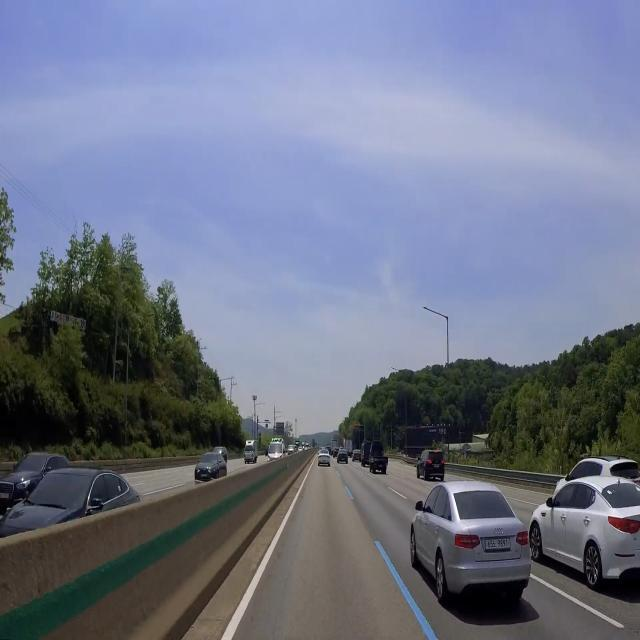car: (481, 533, 511, 554), (0, 487, 11, 505), (200, 469, 210, 483), (432, 463, 441, 471), (378, 463, 384, 467), (322, 459, 327, 463), (341, 458, 345, 461), (356, 456, 360, 459)
